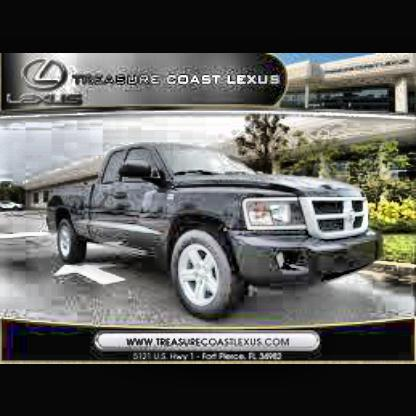Dodge Dakota Crew Cab 2010: (43, 135, 391, 326)
